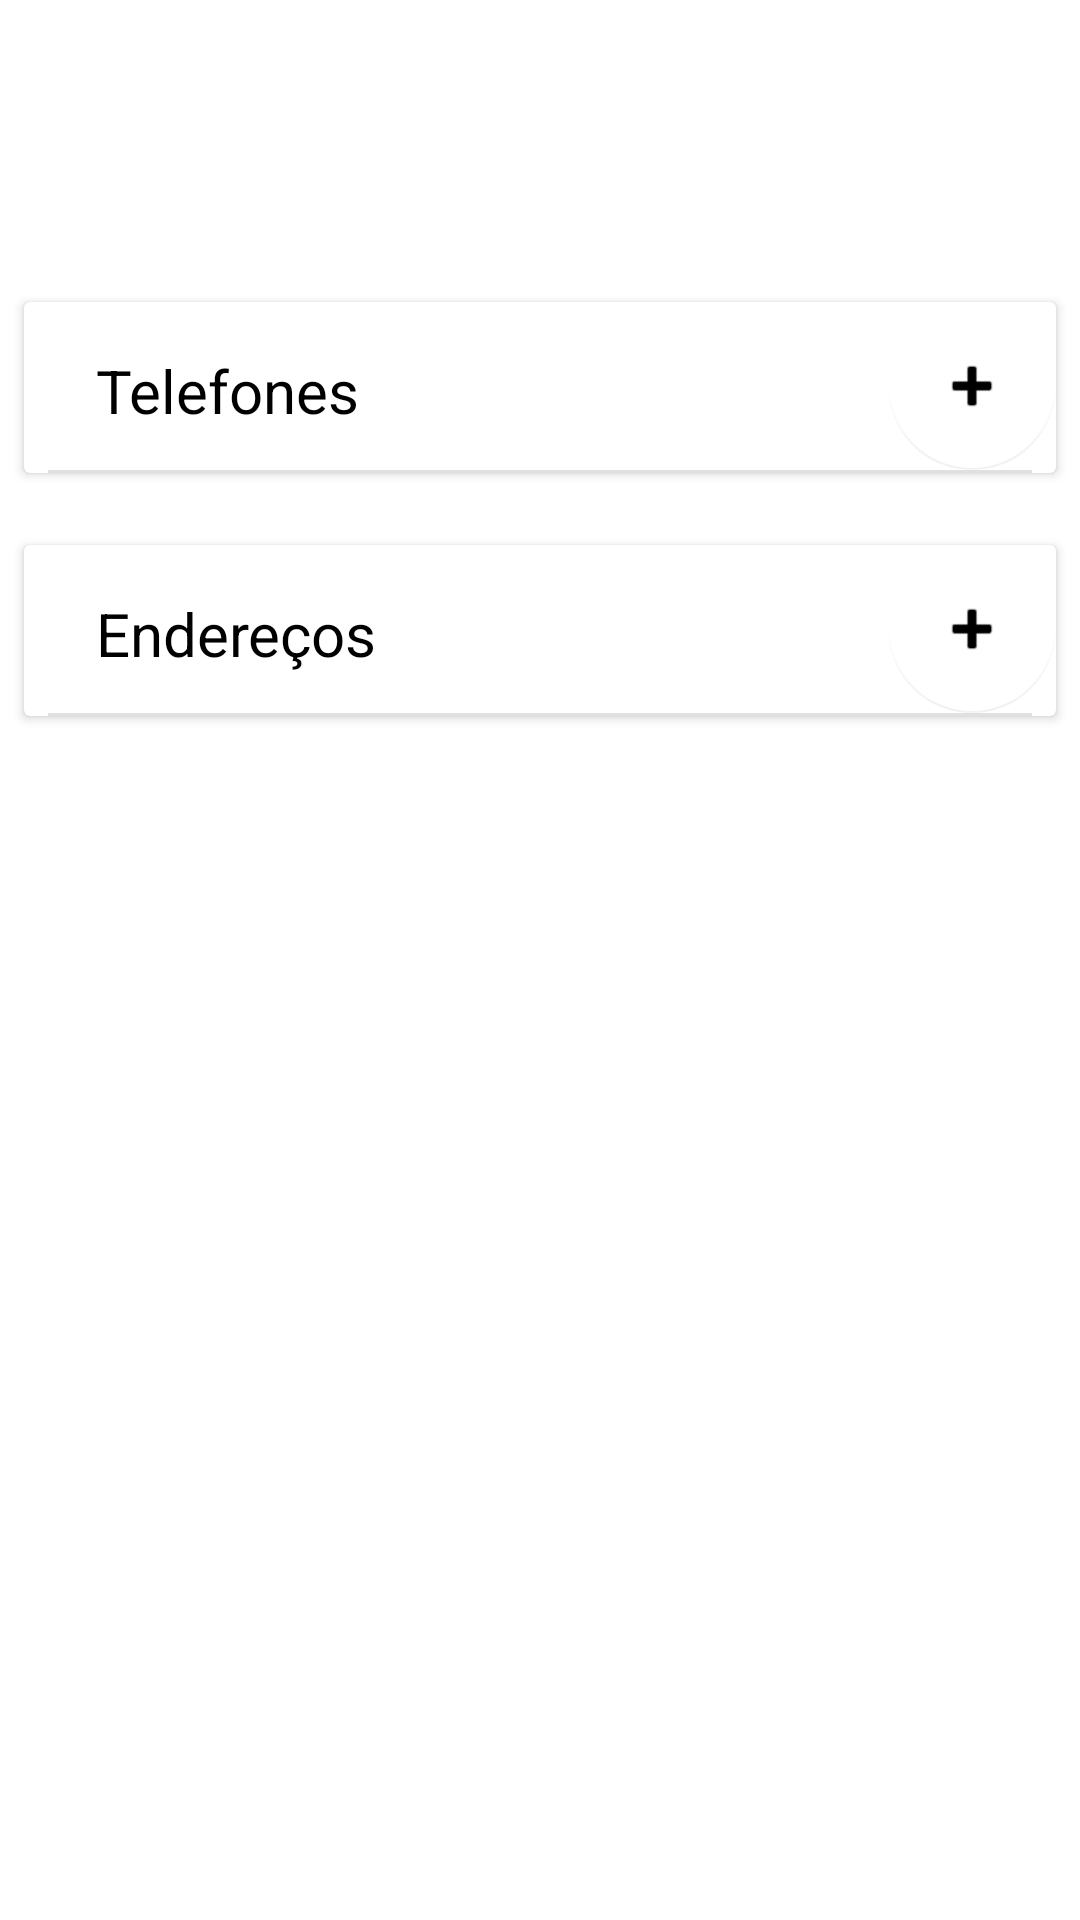

Icons on this 1080w x 1920h Android screen, each with the point to tap as [x,y]:
add: [972,386], [972,629]
